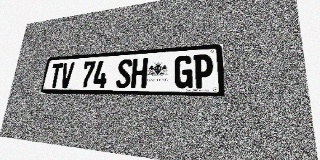4: (92, 60, 109, 88)
7: (80, 61, 96, 88)
G: (174, 55, 193, 88)
H: (130, 58, 148, 88)
P: (193, 54, 213, 88)
S: (115, 59, 133, 88)
T: (48, 63, 64, 88)
V: (59, 62, 75, 88)
